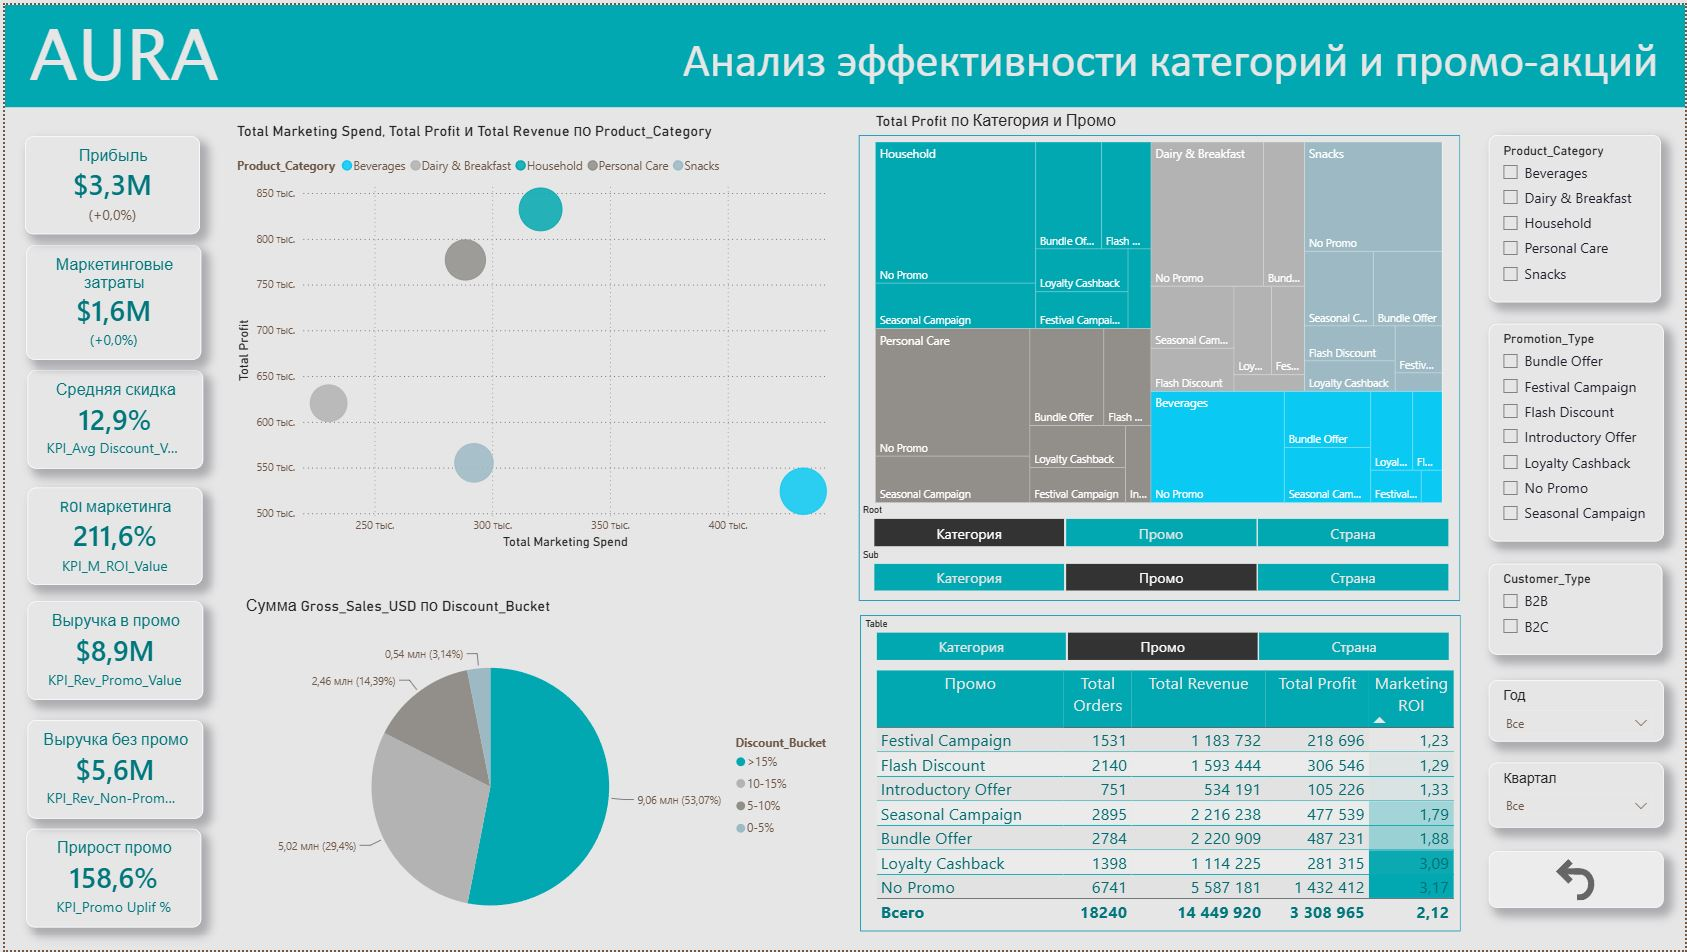

What the dashboard file says about the page in this screenshot:
{"tool":"powerbi","page":{"name":"Category & Promo Analysis","canvas":[1920,1080],"ordinal":1},"visuals":[{"type":"shape","box":[0,0,1920,117.1],"z":0,"group":"g1"},{"type":"shape","box":[976.7,696.7,686.7,361.7],"z":0},{"type":"shape","box":[976.2,148.8,687.5,532.5],"z":1000},{"type":"slicer","fields":{"Values":["Dim_Product.Product_Category"]},"box":[1695.7,148.6,197.1,191.4],"z":2000},{"type":"slicer","fields":{"Values":["Dim_Promo.Promotion_Type"]},"box":[1695.7,364.3,200,248.6],"z":3000},{"type":"slicer","fields":{"Values":["Fact_Sales.Customer_Type"]},"box":[1695.4,638.3,198.6,104.3],"z":4000},{"type":"scatterChart","fields":{"Series":["Dim_Product.Product_Category"],"Size":["DAX.Total Revenue"],"X":["DAX.Total Marketing Spend"],"Y":["DAX.Total Profit"]},"box":[260,132.5,707.5,493.3],"z":5000},{"type":"pieChart","fields":{"Category":["Fact_Sales.Discount_Bucket"],"Y":["Sum(Fact_Sales.Gross_Sales_USD)"]},"box":[270.3,676.2,688.8,404],"z":6000},{"type":"treemap","fields":{"Details":["Dim_Promo.Promotion_Type"],"Group":["Dim_Product.Product_Category"],"Values":["DAX.Total Profit"]},"box":[990,121.2,657.5,452.2],"z":7000},{"type":"textbox","box":[741.4,25.7,1152.9,100],"z":8000,"group":"g1"},{"type":"tableEx","fields":{"Values":["Dim_Promo.Promotion_Type","DAX.Total Orders","DAX.Total Revenue","DAX.Total Profit","DAX.Marketing ROI"]},"box":[990,755,686.7,300.3],"z":8000},{"type":"textbox","box":[22.9,17.1,258.6,135.7],"z":9000,"group":"g1"},{"type":"group","id":"g1","title":"Группа 4","box":[0,0,1920,152.9],"z":12000},{"type":"cardVisual","title":"Выручка без промо","fields":{"Data":["DAX.KPI_Rev_Non-Promo_Value"]},"box":[25.4,817.4,200.4,112.5],"z":13000},{"type":"slicer","fields":{"Values":["Календарь.Год"]},"box":[1695.7,771.4,200,70],"z":14000},{"type":"slicer","fields":{"Values":["Календарь.Квартал"]},"box":[1695.7,865.7,200,74.3],"z":15000},{"type":"actionButton","box":[1695.7,967.5,199.6,64.5],"z":16000},{"type":"cardVisual","title":"Прирост промо","fields":{"Data":["DAX.KPI_Promo Uplif %"]},"box":[24.3,941.4,200,112.9],"z":17000},{"type":"cardVisual","title":"Выручка в промо","fields":{"Data":["DAX.KPI_Rev_Promo_Value"]},"box":[25.4,681.7,200.4,112.5],"z":18000},{"type":"cardVisual","title":"Средняя скидка","fields":{"Data":["DAX.KPI_Avg Discount_Value"]},"box":[25.4,417.4,200.4,112.5],"z":19000},{"type":"cardVisual","title":"Маркетинговые затраты","fields":{"Data":["DAX.KPI_Markweting_Value"]},"box":[24,274.6,200,131.4],"z":20000},{"type":"cardVisual","title":"ROI маркетинга","fields":{"Data":["DAX.KPI_M_ROI_Value"]},"box":[25.4,551.7,200,111.4],"z":21000},{"type":"cardVisual","title":"Прибыль","fields":{"Data":["DAX.KPI_Profit_Value"]},"box":[23.3,150,200,111.7],"z":22000},{"type":"slicer","fields":{"Values":["Root.Root"]},"box":[966.8,566.2,706.2,60],"z":23000},{"type":"slicer","fields":{"Values":["Sub.Sub"]},"box":[967.8,617.5,706.5,58.8],"z":24000},{"type":"slicer","fields":{"Values":["Table.Table"]},"box":[970,695.7,704.3,60],"z":25000}]}

Visuals, with their boxes in screenshot pixels (x1, y1, x2, y2), scaled from the page's 1920x1080 canvas onto the 1687x952 screenshot:
shape: l=0, t=0, r=1686, b=103
shape: l=858, t=614, r=1462, b=933
shape: l=858, t=131, r=1462, b=601
slicer - Dim_Product.Product_Category: l=1490, t=131, r=1663, b=300
slicer - Dim_Promo.Promotion_Type: l=1490, t=321, r=1666, b=540
slicer - Fact_Sales.Customer_Type: l=1490, t=563, r=1664, b=655
scatterChart - Dim_Product.Product_Category x DAX.Total Revenue: l=228, t=117, r=850, b=552
pieChart - Fact_Sales.Discount_Bucket x Sum(Fact_Sales.Gross_Sales_USD): l=237, t=596, r=843, b=951
treemap - Dim_Promo.Promotion_Type x Dim_Product.Product_Category: l=870, t=107, r=1448, b=505
textbox: l=651, t=23, r=1664, b=111
tableEx - Dim_Promo.Promotion_Type x DAX.Total Orders: l=870, t=666, r=1473, b=930
textbox: l=20, t=15, r=247, b=135
"Группа 4" group: l=0, t=0, r=1686, b=135
"Выручка без промо" cardVisual: l=22, t=721, r=198, b=820
slicer - Календарь.Год: l=1490, t=680, r=1666, b=742
slicer - Календарь.Квартал: l=1490, t=763, r=1666, b=829
actionButton: l=1490, t=853, r=1665, b=910
"Прирост промо" cardVisual: l=21, t=830, r=197, b=929
"Выручка в промо" cardVisual: l=22, t=601, r=198, b=700
"Средняя скидка" cardVisual: l=22, t=368, r=198, b=467
"Маркетинговые затраты" cardVisual: l=21, t=242, r=197, b=358
"ROI маркетинга" cardVisual: l=22, t=486, r=198, b=585
"Прибыль" cardVisual: l=20, t=132, r=196, b=231
slicer - Root.Root: l=849, t=499, r=1470, b=552
slicer - Sub.Sub: l=850, t=544, r=1471, b=596
slicer - Table.Table: l=852, t=613, r=1471, b=666
